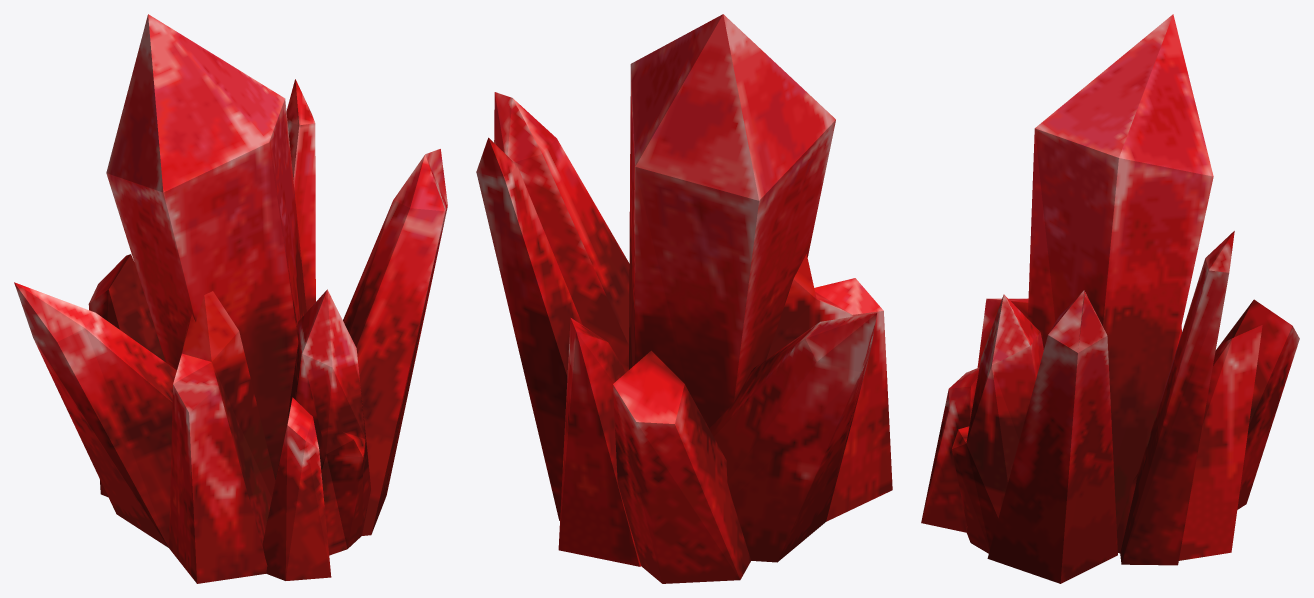
The model's file is dx_shuijing_6.FBX.
3 views of the same model, side by side, from view 1: azimuth 30°, elevation 25°; view 2: azimuth 150°, elevation 25°; view 3: azimuth 270°, elevation 25° (orthographic). The views are drawn at different scales.
Parts seen in each view (by area): view 1: dx_shuijing_6; view 2: dx_shuijing_6; view 3: dx_shuijing_6.
Part boxes in pixels (left/top/right/bottom): dx_shuijing_6: left=14, top=14, right=447, bottom=583; dx_shuijing_6: left=476, top=14, right=892, bottom=583; dx_shuijing_6: left=921, top=14, right=1299, bottom=583.
Bounding box in the file's own units: 102 × 122 × 87.11.
